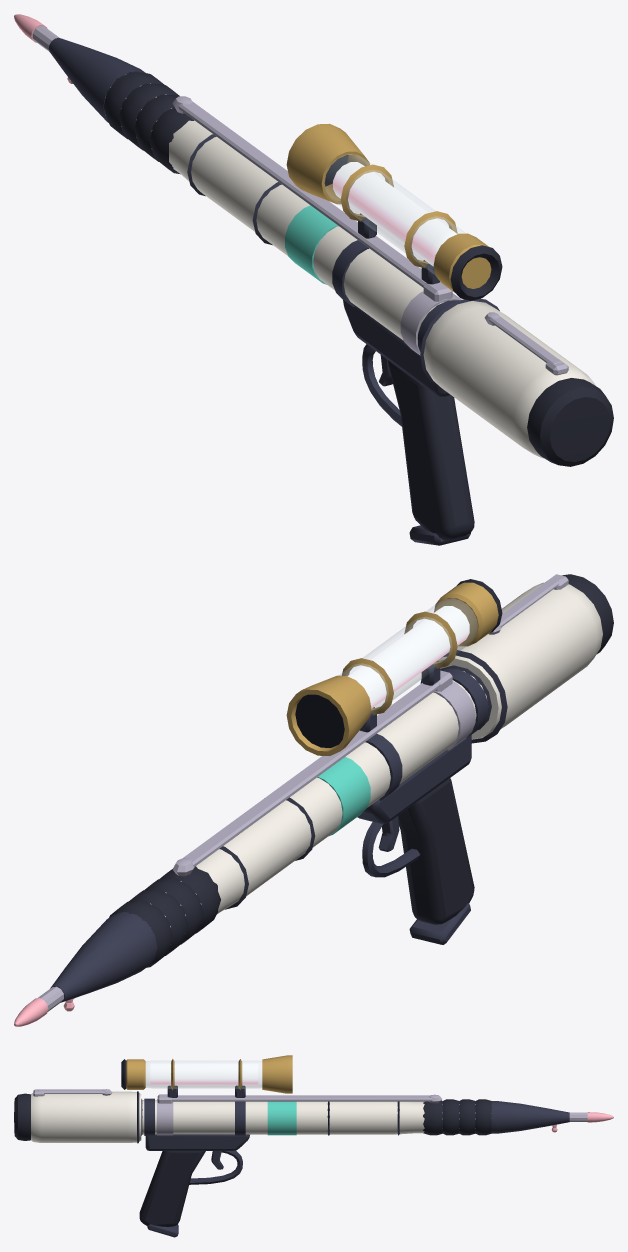
The model's file is weapon_fine_liner.glb.
3 renders of one model, top to bottom at view 1: azimuth 30°, elevation 25°; view 2: azimuth 150°, elevation 25°; view 3: azimuth 270°, elevation 25°, orthographic. The views are drawn at different scales.
Parts seen in each view (by area): view 1: Barrel, CapStock, Grip, ScopeTube, ButtPad, FingerGrip, Fill, PocketClip, ObjectiveBell, TipCone, Receiver, SkinBand (+8 smaller); view 2: Barrel, CapStock, Grip, ScopeTube, TipCone, FingerGrip, PocketClip, Fill, ObjectiveBell, Receiver, Eyepiece, SkinBand (+12 smaller); view 3: Barrel, CapStock, ScopeTube, Grip, FingerGrip, Fill, PocketClip, TipCone, Receiver, ObjectiveBell, SkinBand, ButtPad (+7 smaller).
Boxes of the visible parts, x1,y1,x2,y2 form: Barrel: [105, 74, 443, 340]; CapStock: [423, 301, 595, 458]; Grip: [387, 360, 474, 540]; ScopeTube: [324, 154, 465, 274]; ButtPad: [527, 378, 613, 466]; FingerGrip: [103, 71, 194, 174]; Fill: [333, 162, 457, 266]; PocketClip: [172, 96, 452, 301]; ObjectiveBell: [286, 123, 369, 204]; TipCone: [48, 37, 145, 122]; Receiver: [343, 300, 450, 396]; SkinBand: [285, 205, 338, 284]; Barrel: [150, 671, 486, 933]; CapStock: [438, 582, 602, 739]; Grip: [398, 778, 474, 924]; ScopeTube: [339, 598, 477, 716]; TipCone: [50, 911, 157, 1002]; FingerGrip: [109, 866, 220, 967]; PocketClip: [172, 670, 452, 876]; Fill: [347, 606, 469, 708]; ObjectiveBell: [286, 675, 371, 755]; Receiver: [357, 735, 471, 823]; Eyepiece: [434, 582, 498, 646]; SkinBand: [317, 757, 370, 835]; Barrel: [142, 1100, 475, 1134]; CapStock: [31, 1091, 141, 1142]; ScopeTube: [146, 1061, 261, 1088]; Grip: [139, 1151, 205, 1226]; FingerGrip: [423, 1099, 492, 1135]; Fill: [150, 1063, 258, 1085]; PocketClip: [157, 1094, 441, 1103]; TipCone: [491, 1101, 569, 1133]; Receiver: [145, 1134, 249, 1150]; ObjectiveBell: [262, 1055, 292, 1093]; SkinBand: [267, 1101, 296, 1135]; ButtPad: [14, 1093, 30, 1140].
Bounding box in the file's own units: 0.092 × 0.3349 × 1.03.
